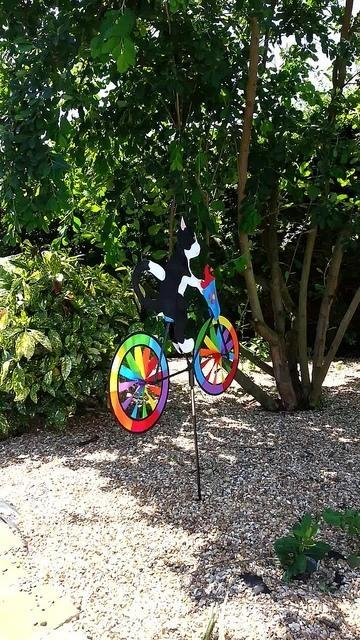bicycle: (110, 306, 239, 434)
